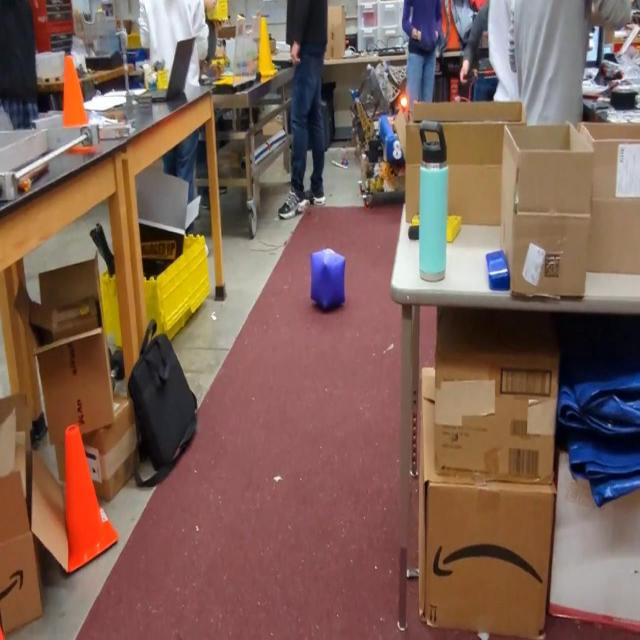frc_cone: (254, 18, 278, 78)
frc_cube: (310, 248, 346, 312)
